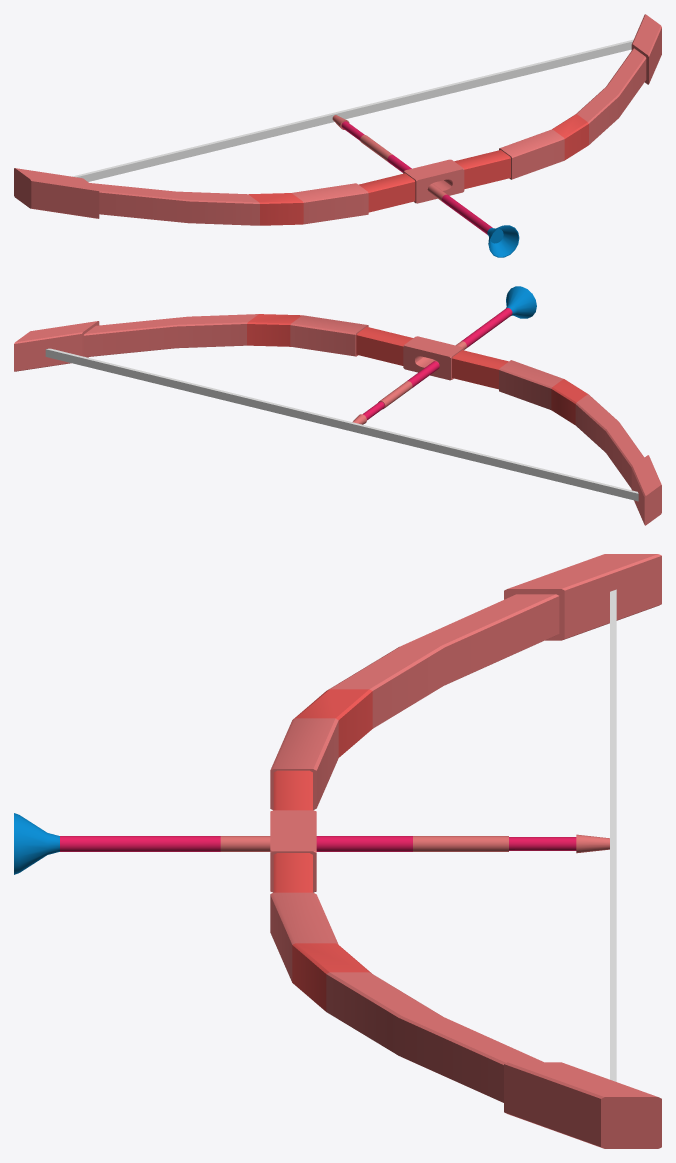
The model's file is Pink_Bow.fbx.
3 views of the same model, one above another, from view 1: azimuth 30°, elevation 25°; view 2: azimuth 150°, elevation 25°; view 3: azimuth 270°, elevation 25° (orthographic). The views are drawn at different scales.
Parts seen in each view (by area): view 1: Pink_Bow, Pink_Arrow; view 2: Pink_Bow, Pink_Arrow; view 3: Pink_Bow, Pink_Arrow.
Part boxes in pixels (x1,y1,x2,y2): Pink_Bow: (14, 14, 661, 225); Pink_Arrow: (332, 115, 519, 257); Pink_Bow: (14, 314, 661, 525); Pink_Arrow: (352, 286, 536, 424); Pink_Bow: (270, 554, 661, 1148); Pink_Arrow: (14, 813, 609, 874).
Bounding box in the file's own units: 91.72 × 4.44 × 46.25.
Materials: 1 (1 with a texture image).
